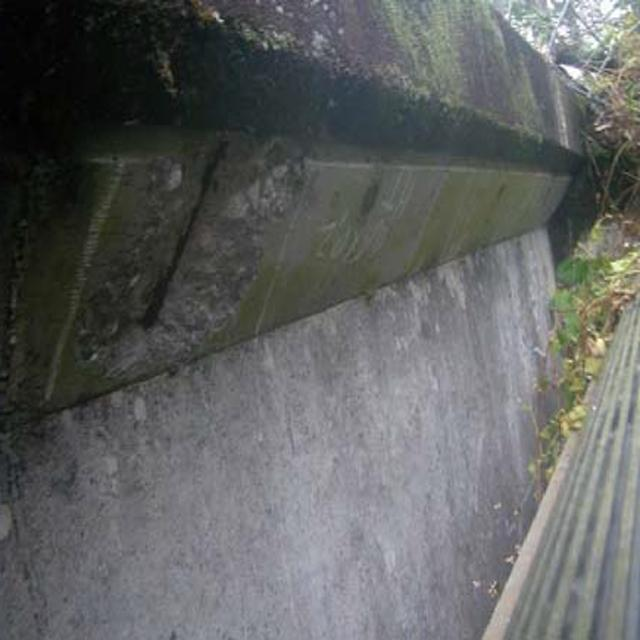spalling: (100, 122, 289, 378)
